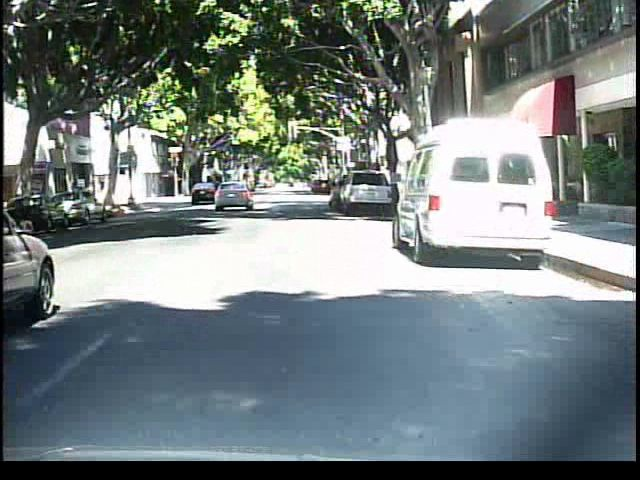person: (230, 171, 252, 206)
